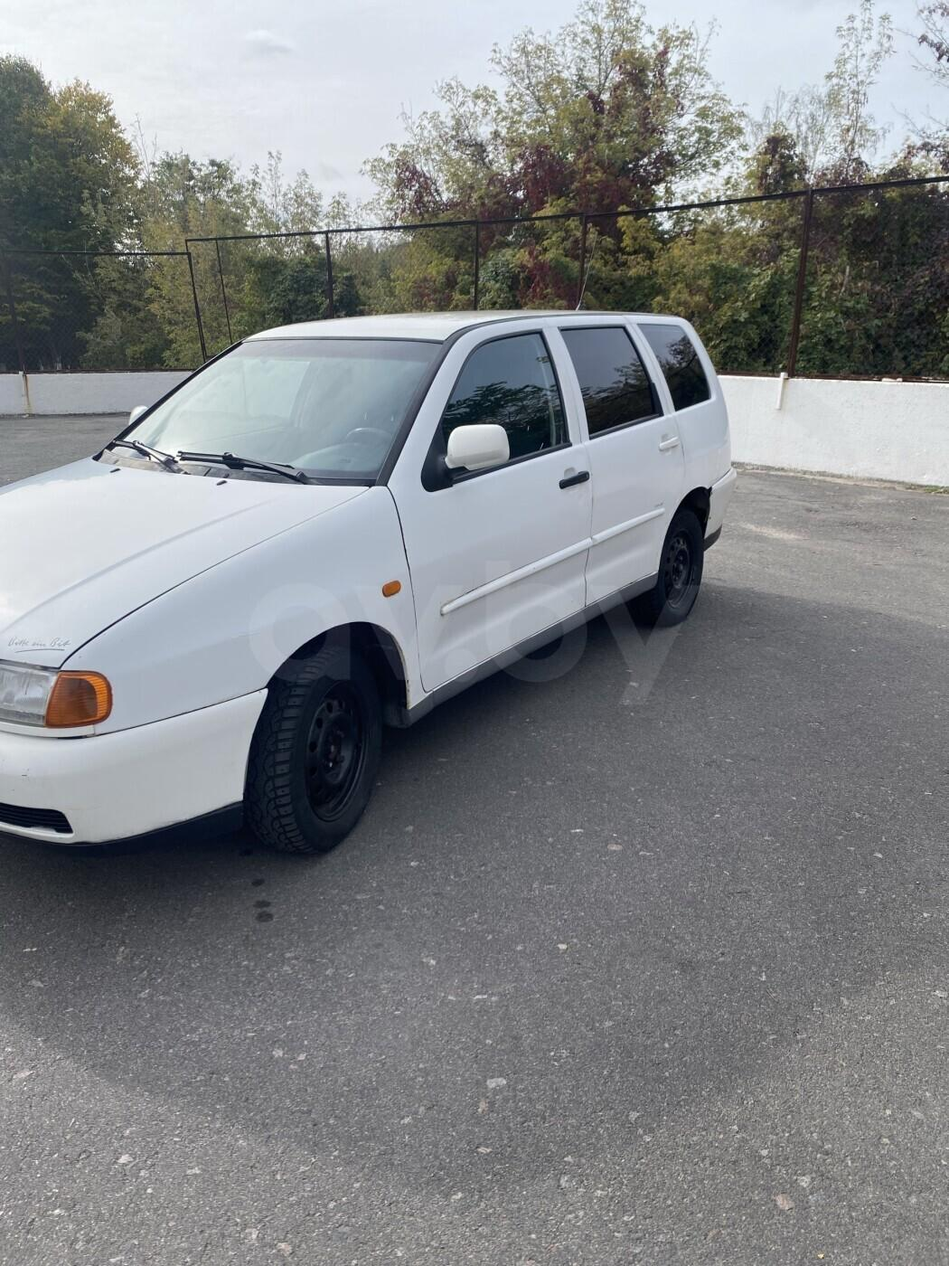Polo_1994-2002: (0, 295, 786, 884)
